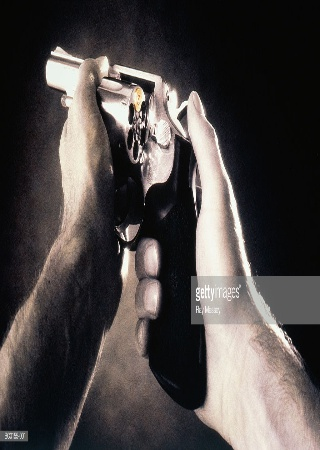handgun: (43, 39, 210, 414)
